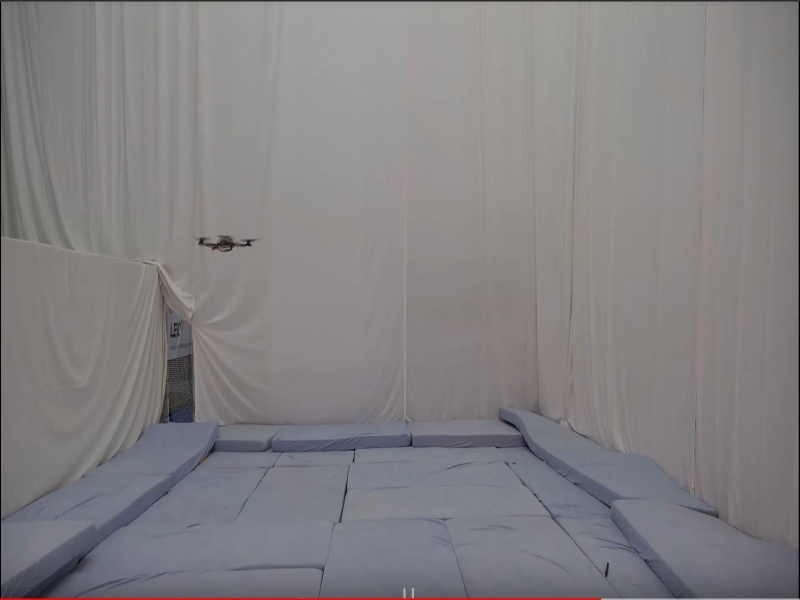drone: (190, 231, 259, 253)
